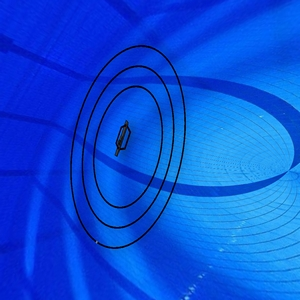circle: (67, 43, 191, 252)
submarine: (108, 117, 138, 162)
